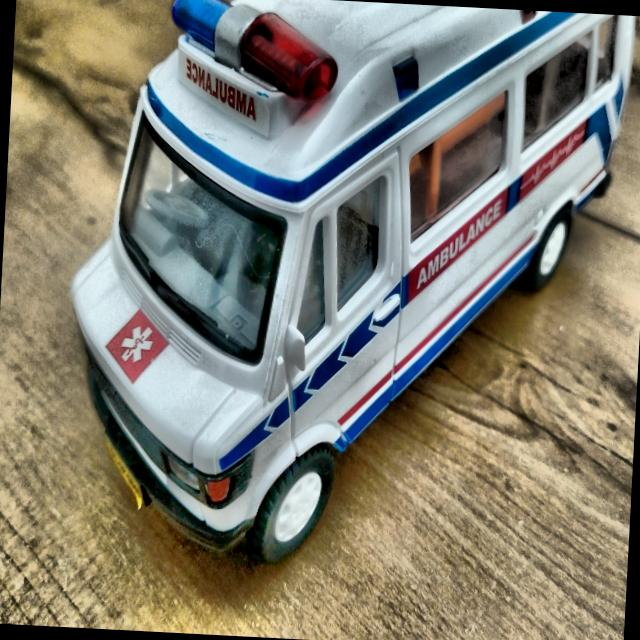Ambulance: (50, 0, 640, 579)
